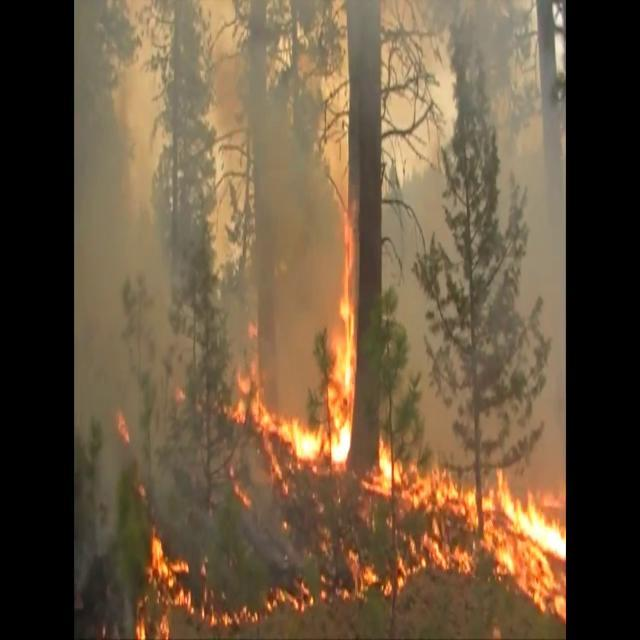Fire: (370, 432, 566, 608), (228, 352, 324, 476), (312, 252, 362, 479), (132, 523, 198, 638)
Smoke: (75, 0, 571, 378)
